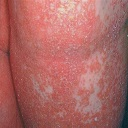Pityriasis Rubra Pilaris: (18, 6, 115, 128)
